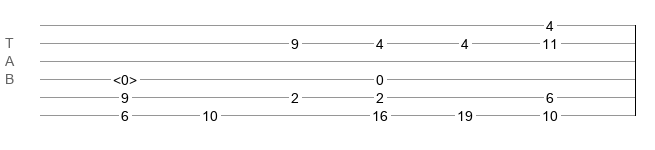0: (376, 72, 384, 82)
10: (202, 108, 218, 118), (542, 108, 558, 118)
11: (542, 36, 558, 46)
16: (372, 108, 388, 118)
19: (457, 108, 473, 118)
2: (291, 90, 299, 100), (376, 90, 384, 100)
4: (376, 36, 384, 46), (461, 36, 469, 46), (546, 18, 554, 28)
6: (121, 108, 129, 118), (546, 90, 554, 100)
9: (121, 90, 129, 100), (291, 36, 299, 46)
harmonic: (113, 72, 137, 82)
